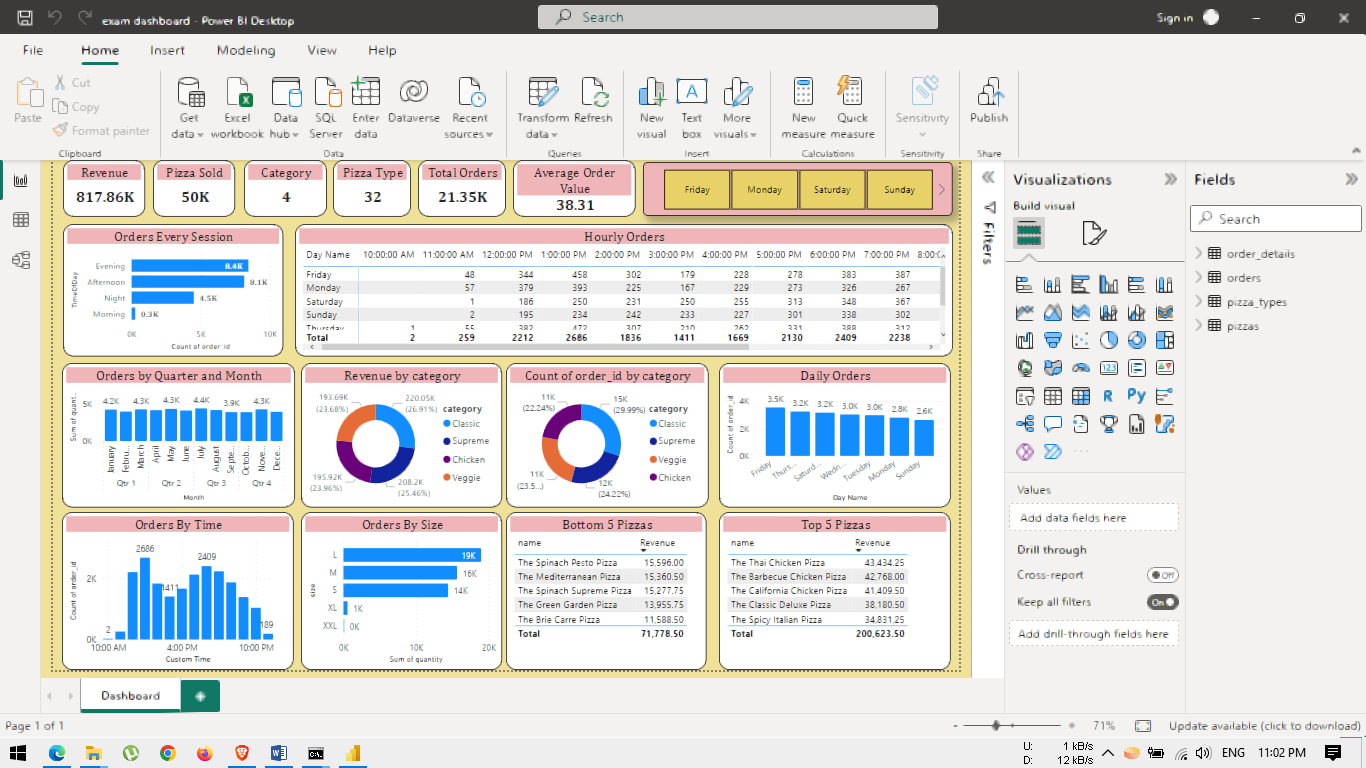

Layout of this report page (visuals, bound fields, positions):
{"tool":"powerbi","page":{"name":"Dashboard","canvas":[1280,720],"ordinal":0},"visuals":[{"type":"card","title":"Revenue","fields":{"Values":["order_details.Revenue"]},"box":[14.3,0,115.7,80],"z":0},{"type":"card","title":"Pizza Sold","fields":{"Values":["Sum(order_details.quantity)"]},"box":[141.4,0,115.7,80],"z":1000},{"type":"card","title":"Category","fields":{"Values":["Count(pizza_types.category)"]},"box":[270,0,117.1,80],"z":2000},{"type":"card","title":"Pizza Type","fields":{"Values":["CountNonNull(pizza_types.category)"]},"box":[395.7,0,110,80],"z":3000},{"type":"card","title":"Total Orders","fields":{"Values":["CountNonNull(orders.order_id)"]},"box":[515.7,0,124.3,80],"z":4000},{"type":"card","title":"Average Order Value","fields":{"Values":["order_details.avg_order_value"]},"box":[650,0,172.9,80],"z":5000},{"type":"barChart","title":"Orders Every Session","fields":{"Category":["orders.TimeOfDay"],"Y":["CountNonNull(orders.order_id)"]},"box":[14.3,90,311.4,187.1],"z":6000},{"type":"pivotTable","title":"Hourly Orders","fields":{"Rows":["orders.Day Name"],"Values":["CountNonNull(orders.order_id)"],"Columns":["orders.Custom Time"]},"box":[341.4,90,928.6,187.1],"z":7000},{"type":"clusteredColumnChart","title":"Orders by Quarter and Month","fields":{"Category":["orders.date.Variation.Date Hierarchy.Quarter","orders.date.Variation.Date Hierarchy.Month"],"Y":["Sum(order_details.quantity)"]},"box":[12.9,287.1,328.6,204.3],"z":8000},{"type":"donutChart","fields":{"Category":["pizza_types.category"],"Y":["order_details.Revenue"]},"box":[350,287.1,284.3,204.3],"z":9000},{"type":"donutChart","fields":{"Category":["pizza_types.category"],"Y":["CountNonNull(order_details.order_id)"]},"box":[640,287.1,285.7,204.3],"z":10000},{"type":"clusteredColumnChart","title":"Daily Orders","fields":{"Category":["orders.Day Name"],"Y":["CountNonNull(orders.order_id)"]},"box":[940,287.1,327.1,204.3],"z":11000},{"type":"clusteredColumnChart","title":"Orders By Time","fields":{"Y":["CountNonNull(orders.order_id)"],"Category":["orders.Custom Time"]},"box":[12.9,497.1,327.1,222.9],"z":12000},{"type":"barChart","title":"Orders By Size","fields":{"Y":["Sum(order_details.quantity)"],"Category":["pizzas.size"]},"box":[350,497.1,284.3,222.9],"z":13000},{"type":"tableEx","title":"Bottom 5 Pizzas","fields":{"Values":["pizza_types.name","order_details.Revenue"]},"box":[640,497.1,282.9,222.9],"z":13001},{"type":"tableEx","title":"Top 5 Pizzas","fields":{"Values":["pizza_types.name","order_details.Revenue"]},"box":[940,497.1,327.1,222.9],"z":13002},{"type":"slicer","fields":{"Values":["orders.Day Name"]},"box":[832.9,2.9,437.1,75.7],"z":13003}]}

Visuals, with their boxes on the page's 1280x720 design canvas (x1, y1, x2, y2). These are canvas units, not pixel positions in the 1366x768 screenshot, which may show the page scaled, cropped or inside an application window:
"Revenue" card: 14:0:130:80
"Pizza Sold" card: 141:0:257:80
"Category" card: 270:0:387:80
"Pizza Type" card: 396:0:506:80
"Total Orders" card: 516:0:640:80
"Average Order Value" card: 650:0:823:80
"Orders Every Session" barChart: 14:90:326:277
"Hourly Orders" pivotTable: 341:90:1270:277
"Orders by Quarter and Month" clusteredColumnChart: 13:287:342:491
donutChart - pizza_types.category x order_details.Revenue: 350:287:634:491
donutChart - pizza_types.category x CountNonNull(order_details.order_id): 640:287:926:491
"Daily Orders" clusteredColumnChart: 940:287:1267:491
"Orders By Time" clusteredColumnChart: 13:497:340:720
"Orders By Size" barChart: 350:497:634:720
"Bottom 5 Pizzas" tableEx: 640:497:923:720
"Top 5 Pizzas" tableEx: 940:497:1267:720
slicer - orders.Day Name: 833:3:1270:79
